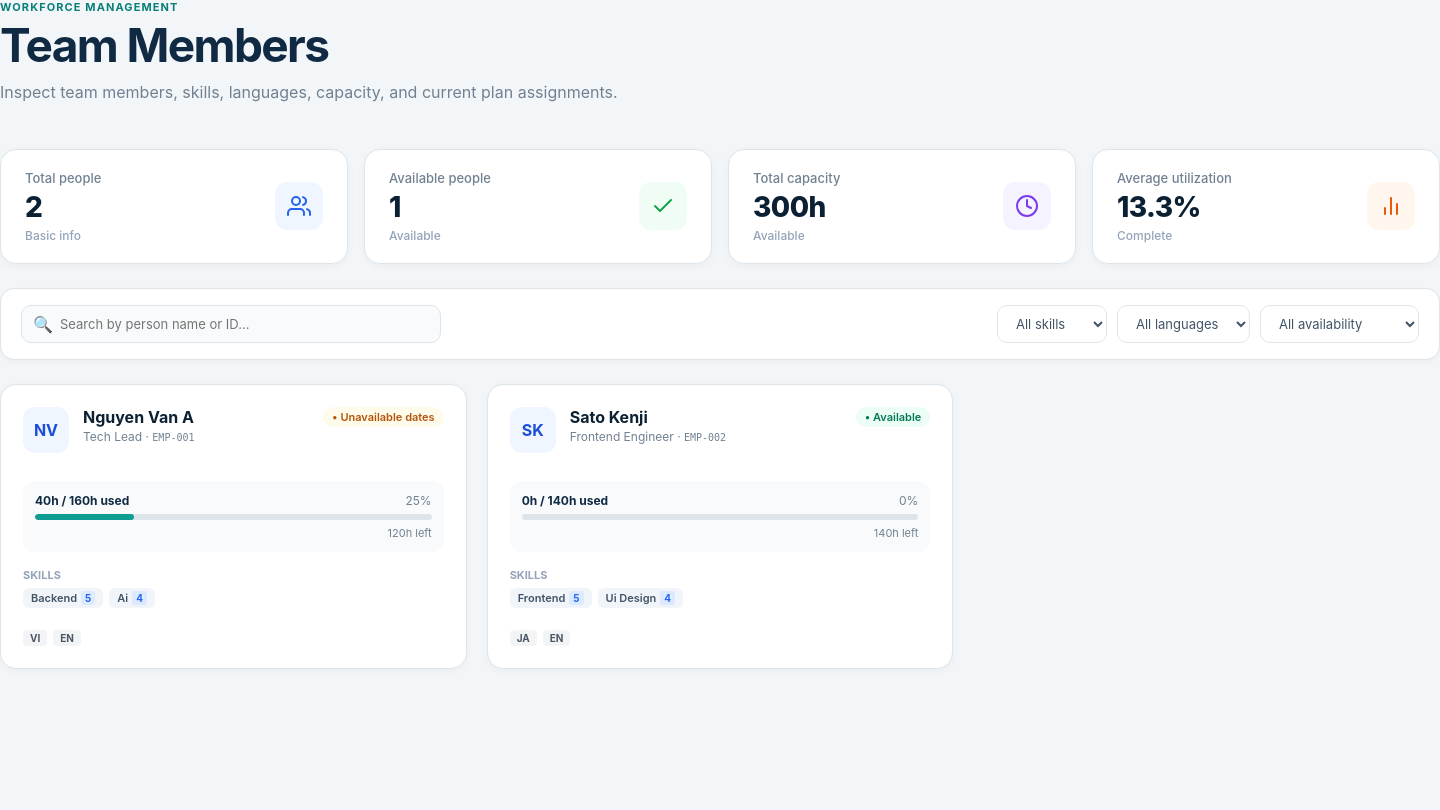
Scenario: EmployeesPage › opens employee detail modal on click with assignments and skills
Step 1. Click the button with test id "employee-card-EMP-001" → (233, 526), box [0,384,467,669]
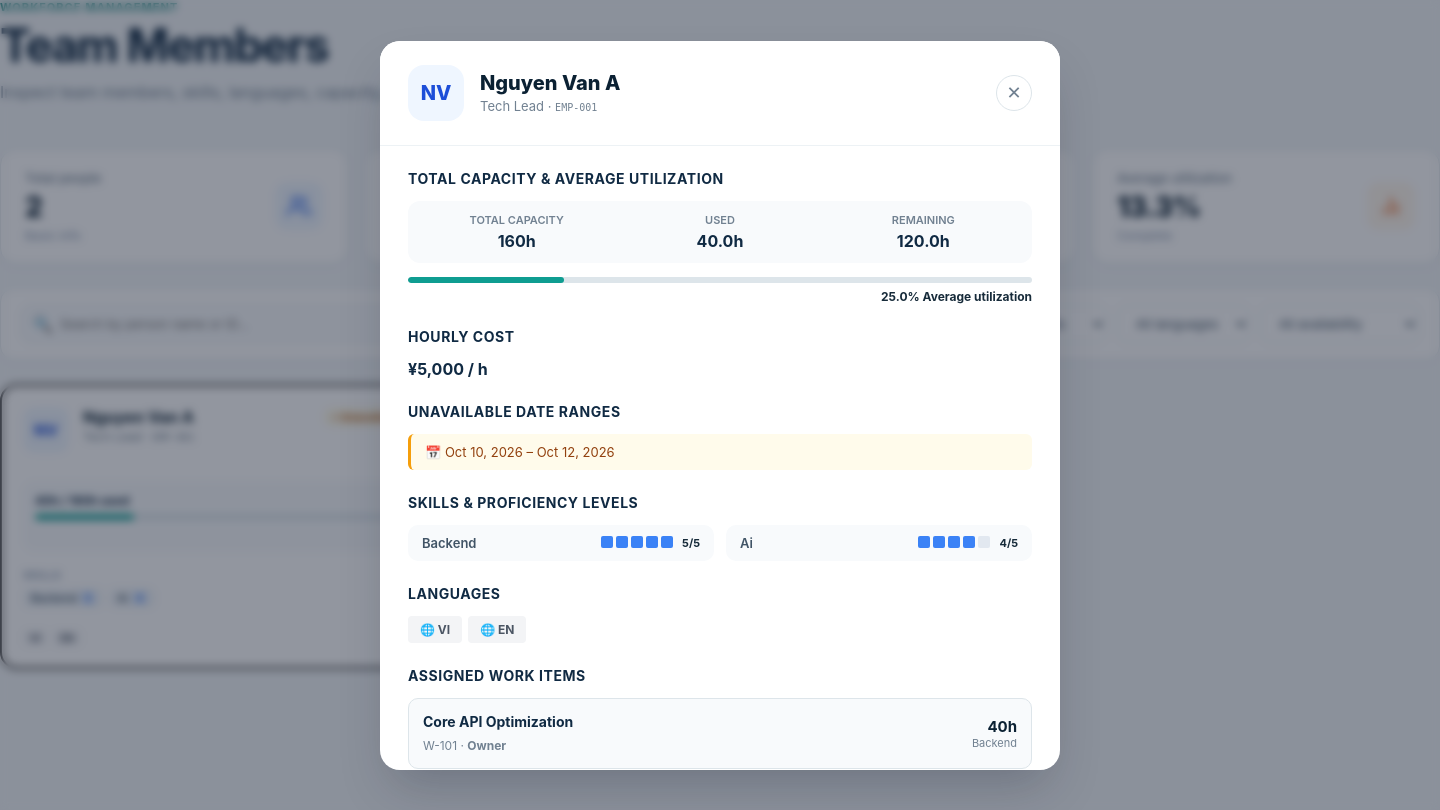
Now the element with test id "employee-detail-modal" is shown, box [380,40,1060,770]
Now the heading "Core API Optimization" is shown, box [423,712,573,730]
Now the text "40h" is shown, box [987,717,1017,736]
# Close modal
Step 2. Click the button named "Close" → (1014, 92), box [996,74,1032,110]
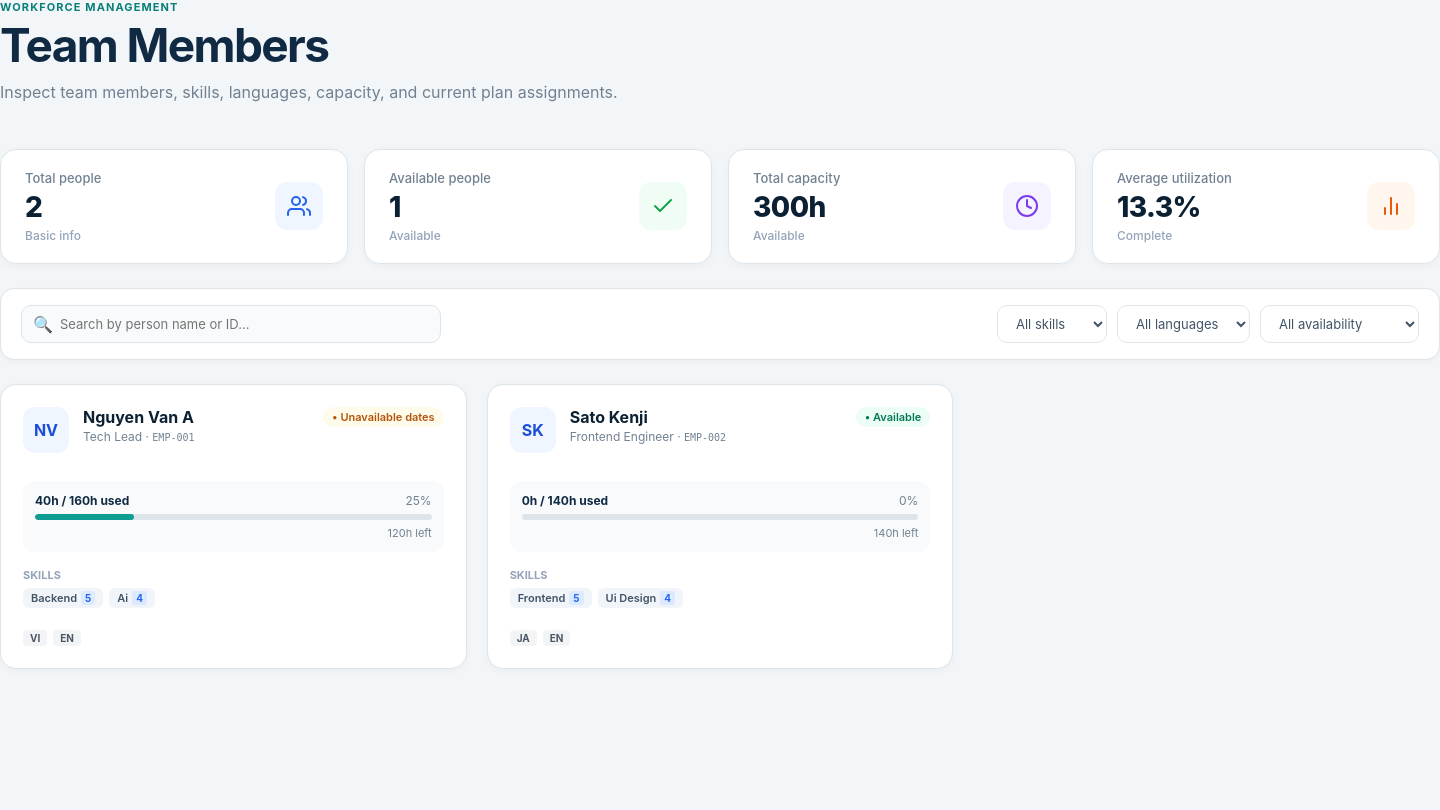
Now the element with test id "employee-detail-modal" is gone
